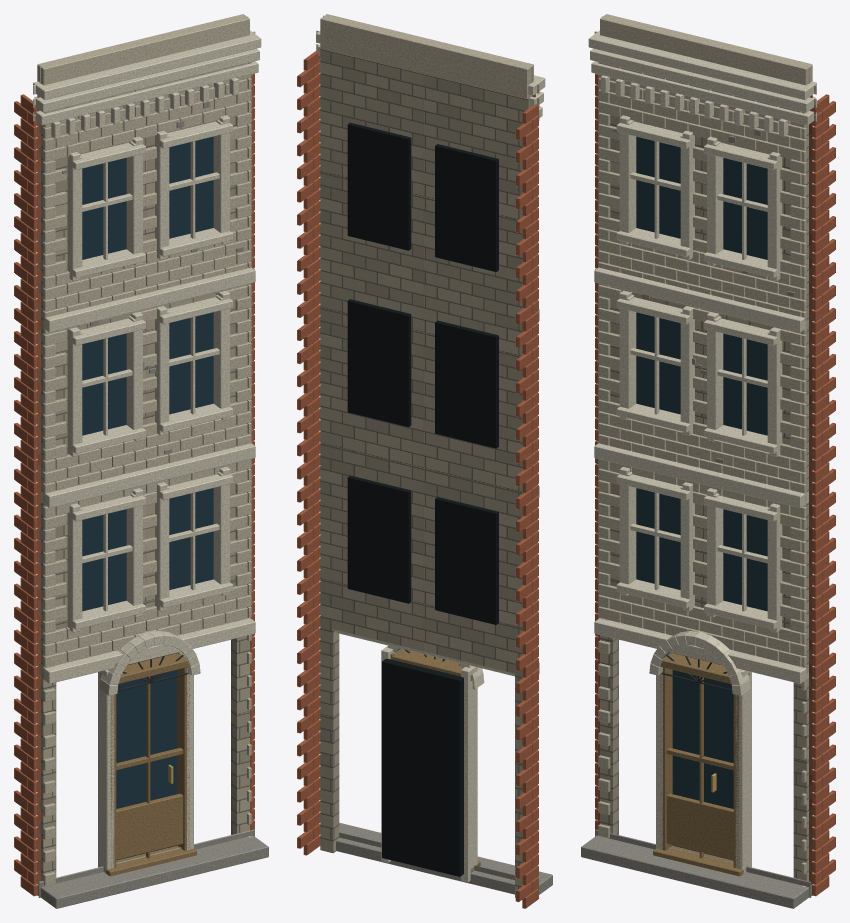
The model's file is OFFC17_lod0.glb.
3 renders of one model, left to right at view 1: azimuth 30°, elevation 25°; view 2: azimuth 150°, elevation 25°; view 3: azimuth 330°, elevation 25°, orthographic.
Visible parts, largest first — view 1: OFFC17_FRONT_LOD0; view 2: OFFC17_FRONT_LOD0; view 3: OFFC17_FRONT_LOD0.
Part boxes in pixels (left/top/right/bottom): OFFC17_FRONT_LOD0: left=14, top=14, right=268, bottom=908; OFFC17_FRONT_LOD0: left=297, top=14, right=552, bottom=908; OFFC17_FRONT_LOD0: left=581, top=14, right=835, bottom=908.
Bounding box in the file's own units: 3.44 × 12.26 × 1.02.
16 materials, 13 textured.
